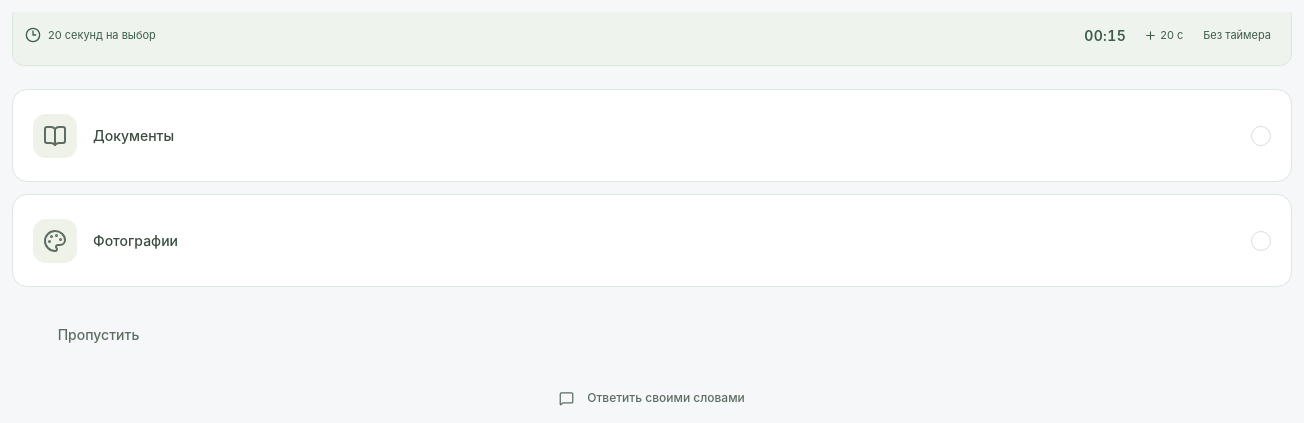
Scenario: answer timebox › disables time limits for the session and resets on re-enabling
The width and height of the screenshot is (1304, 423).
Click the button "Без таймера" at point(1237, 35), box [1195,13,1279,57]
Wait 300000 ms
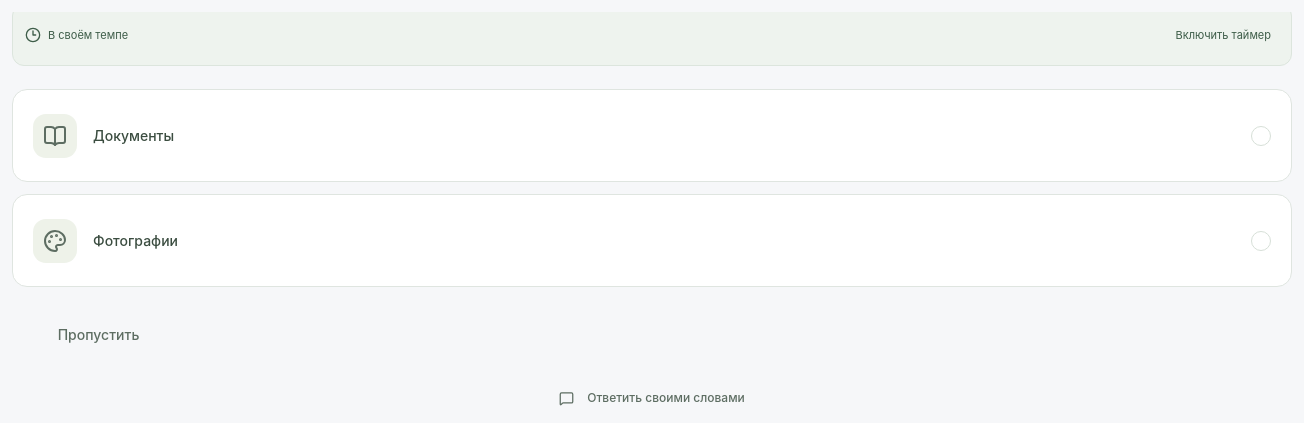
Check: the text "В своём темпе" is shown, box [48,27,128,43]
Click the button "Включить таймер" at point(1223, 35), box [1168,13,1279,57]
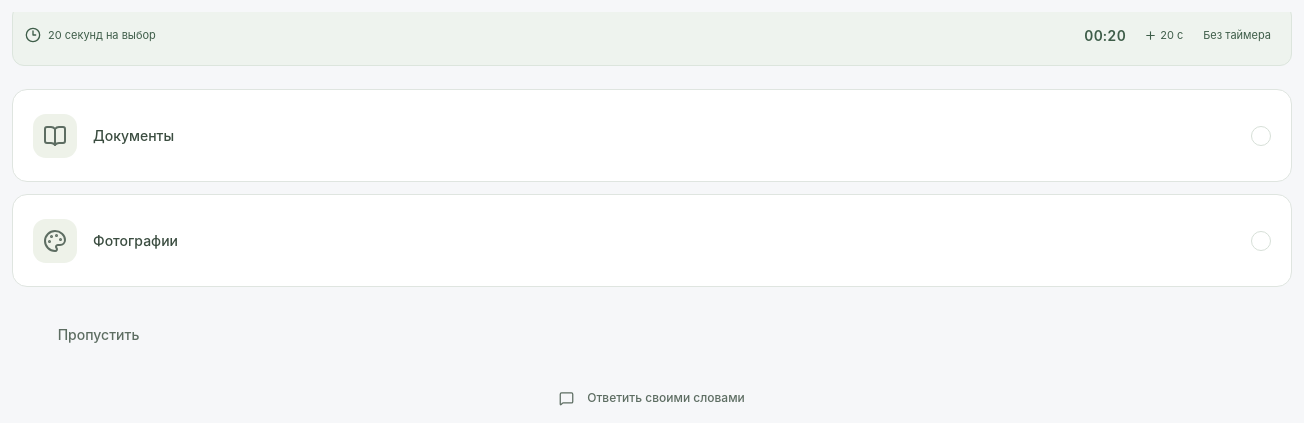
Check: the text "00:20" is shown, box [1084,24,1126,46]
